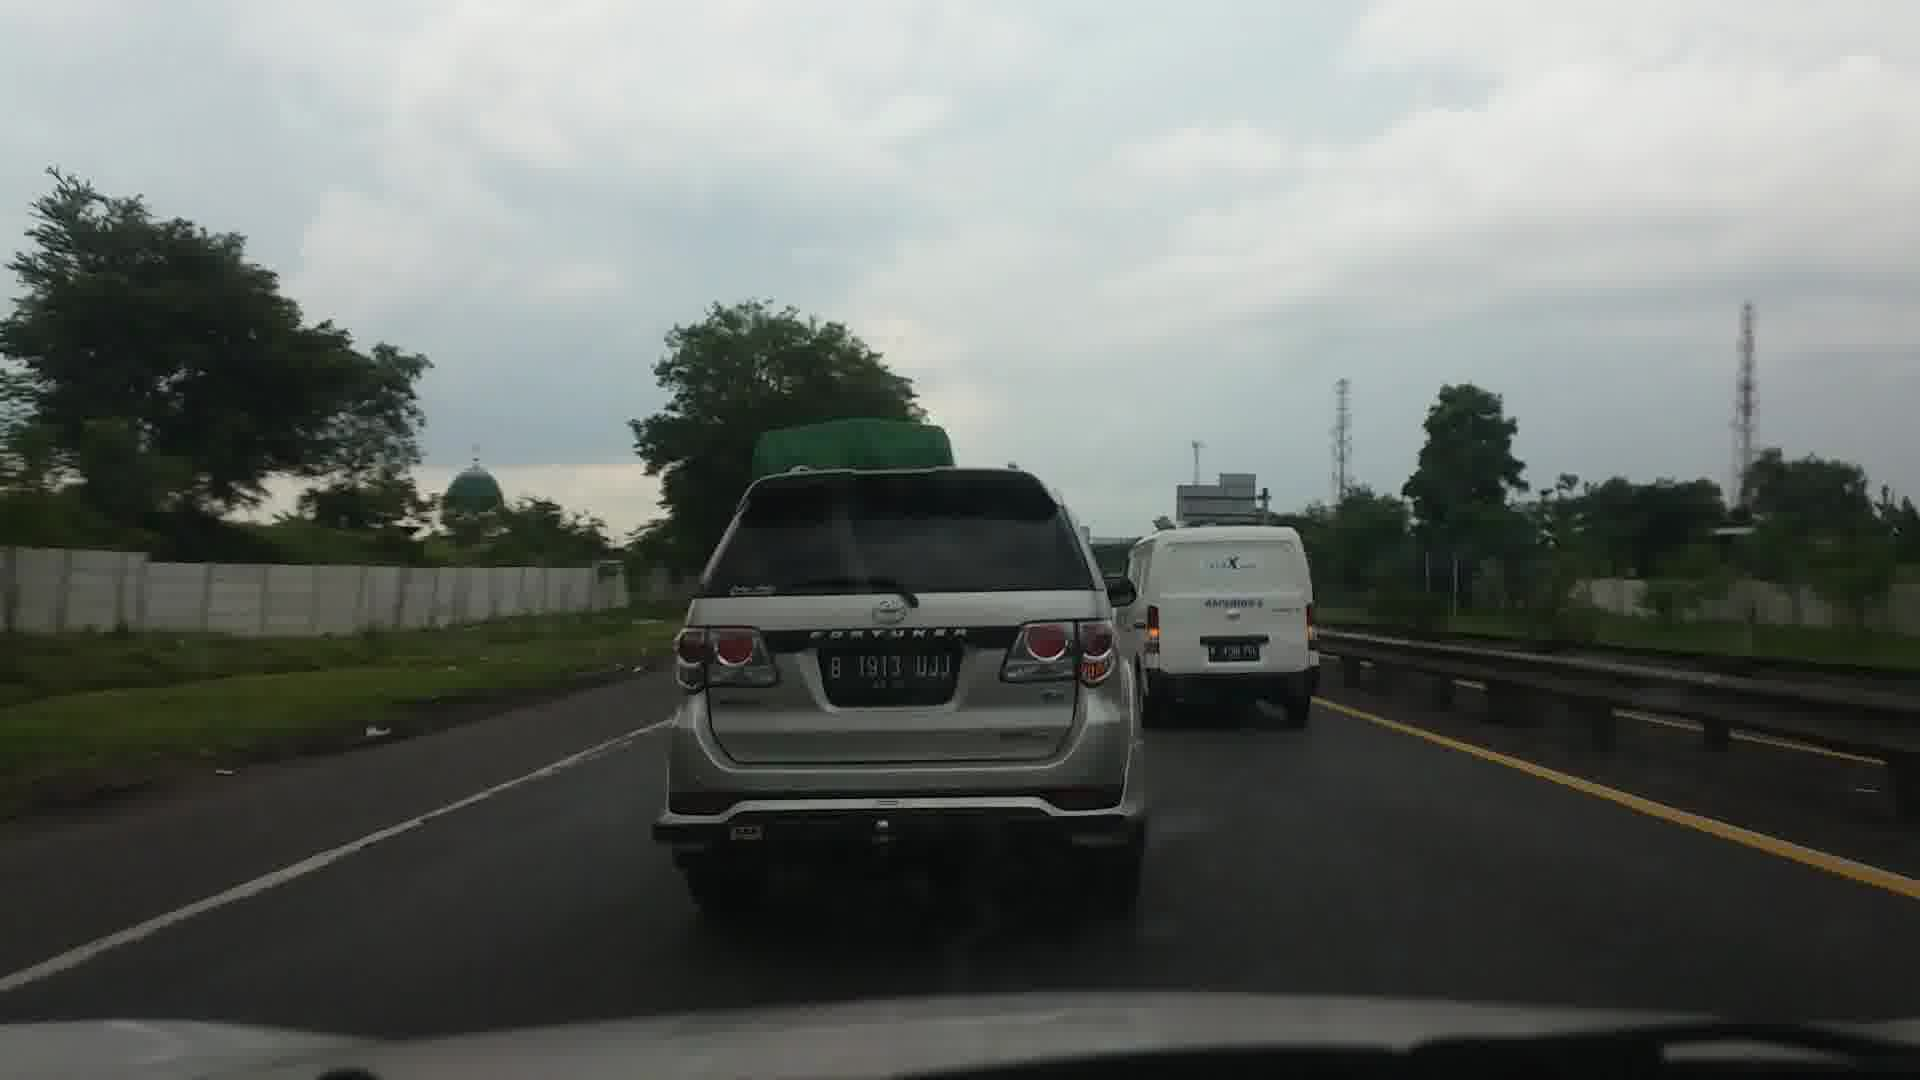plate_positive: (825, 651, 956, 691)
